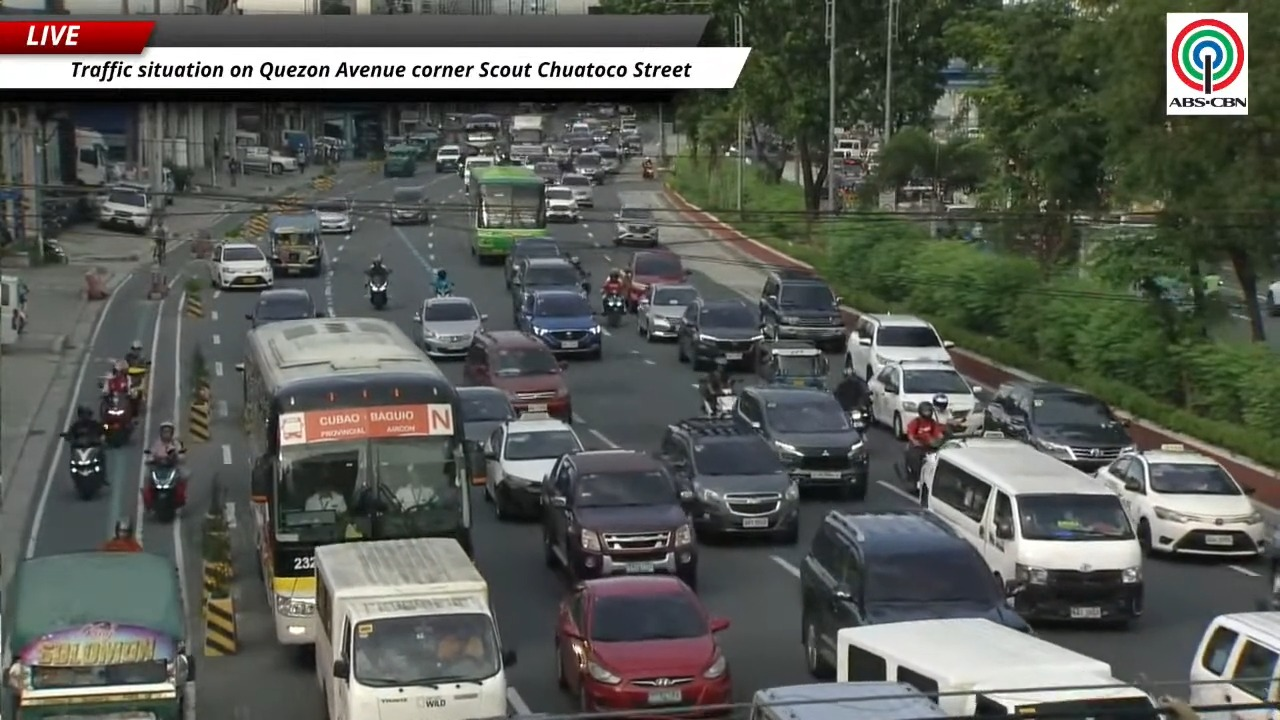bus: (237, 318, 471, 644), (469, 165, 547, 263), (463, 113, 502, 146)
car: (798, 510, 1029, 678), (554, 577, 731, 716), (542, 449, 697, 587), (1096, 444, 1268, 555), (659, 417, 798, 543), (734, 386, 868, 500), (984, 380, 1135, 472), (485, 414, 583, 519), (463, 330, 571, 422), (868, 361, 977, 439), (844, 314, 953, 380), (759, 268, 845, 351), (676, 298, 762, 371), (516, 290, 602, 359), (457, 386, 517, 484), (511, 257, 587, 318), (415, 296, 486, 357), (624, 249, 690, 311), (456, 386, 517, 447), (637, 283, 699, 341), (245, 288, 324, 327), (504, 238, 564, 289), (98, 183, 156, 233), (210, 243, 273, 288), (613, 205, 658, 247), (389, 186, 430, 224), (459, 154, 497, 192), (315, 198, 354, 233), (546, 186, 580, 223), (573, 150, 607, 184), (560, 172, 593, 207), (564, 132, 593, 167), (592, 144, 621, 173), (532, 161, 562, 185), (548, 143, 571, 172), (620, 129, 643, 156), (522, 152, 553, 170), (1264, 280, 1279, 316), (591, 122, 612, 144)
motorcycle: (895, 432, 952, 496), (142, 450, 185, 522), (68, 443, 105, 500), (101, 392, 132, 447), (126, 361, 149, 415), (702, 386, 736, 417), (602, 292, 625, 327), (368, 276, 388, 309), (849, 409, 869, 432), (642, 163, 656, 180), (433, 285, 452, 297)
truck: (314, 537, 514, 719), (3, 551, 194, 719), (74, 128, 113, 186), (509, 115, 546, 162), (240, 146, 298, 174)
